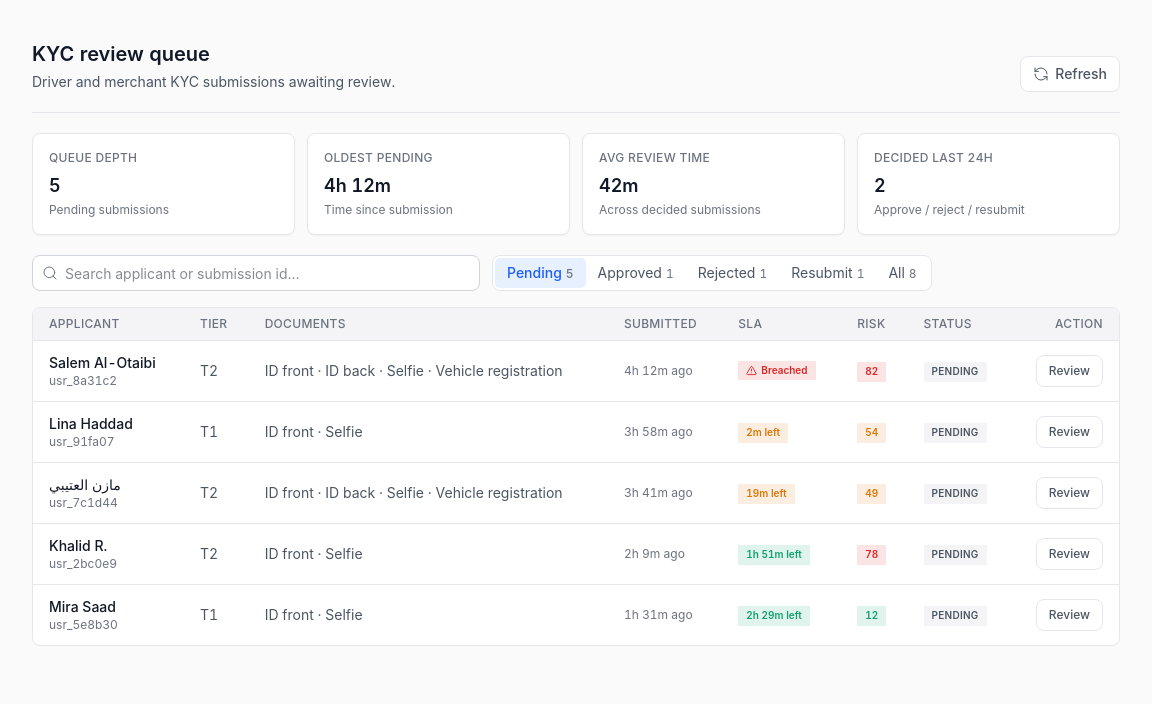
<KycQueuePage /> › approves a pending submission with a reason
Click the button named "review mira saad" at (1069, 615), box [1036,599,1103,631]
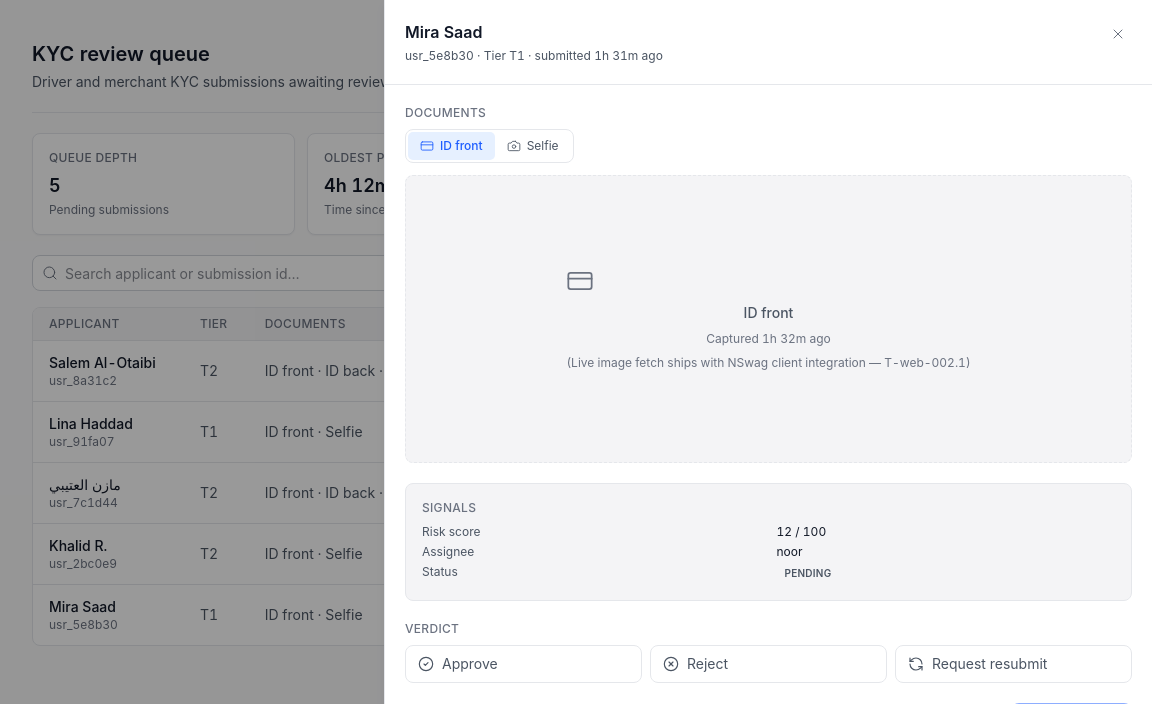
Click the radio button labelled "Approve" at (524, 664), box [405,645,642,683]
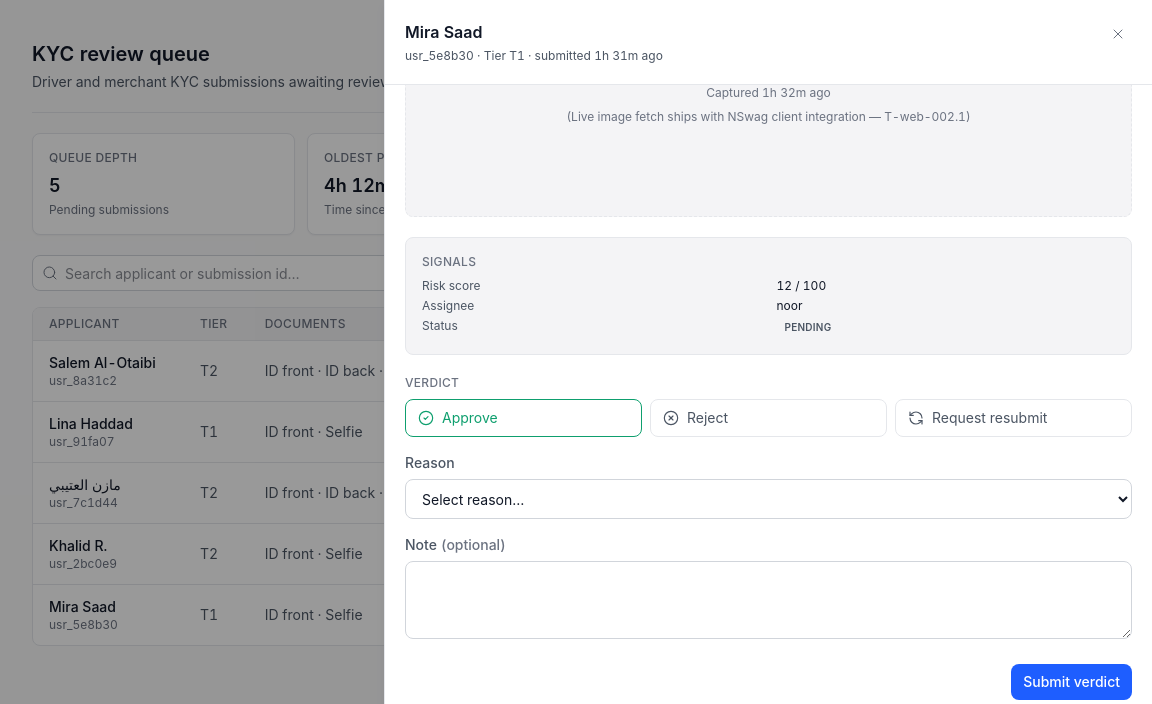
Select "Clean — all signals green" in the dropdown labelled "Reason" at (768, 499), box [405,479,1132,519]
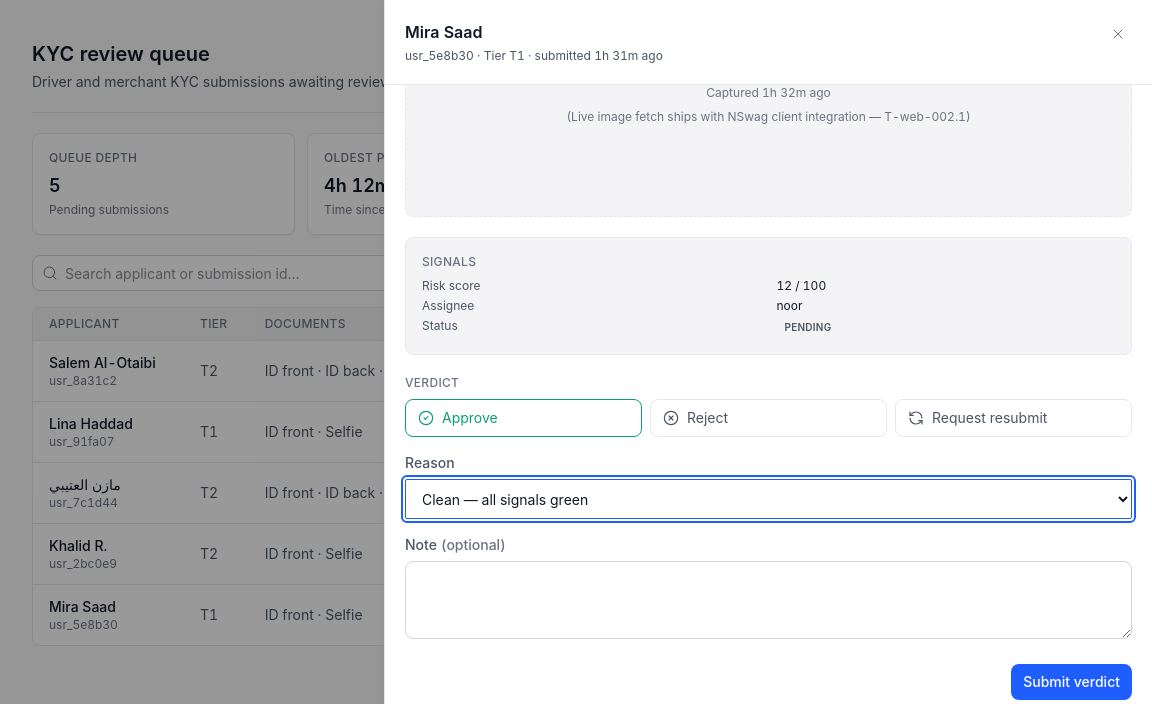
Click the button "Submit verdict" at (1072, 682), box [1011,664,1132,700]
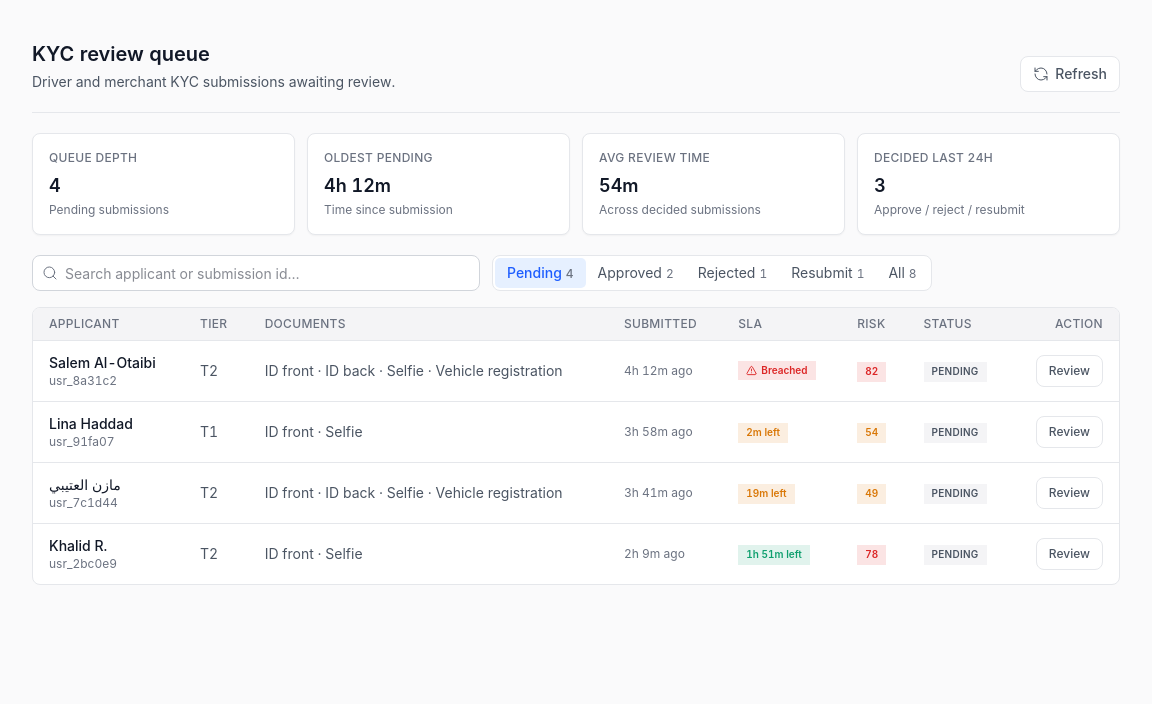
Click the tab "Approved2" at (636, 273), box [586,258,686,288]
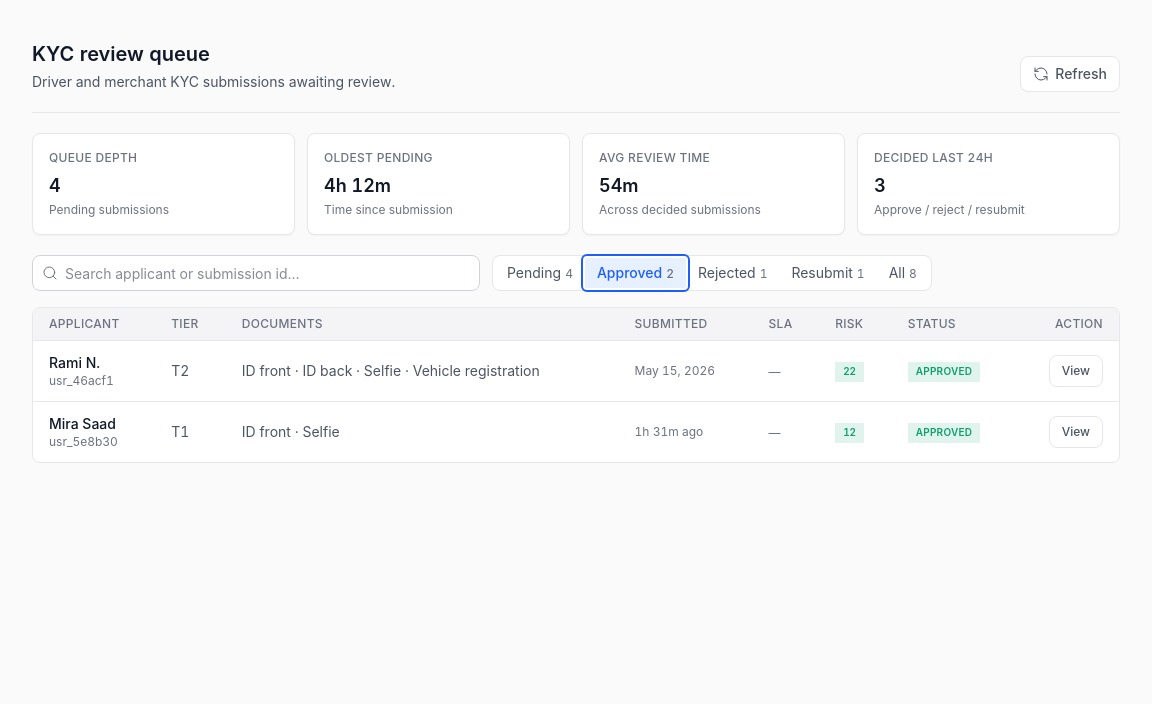
Now the text "Approved" in the row of "Mira Saad" is shown, box [916,426,972,438]
